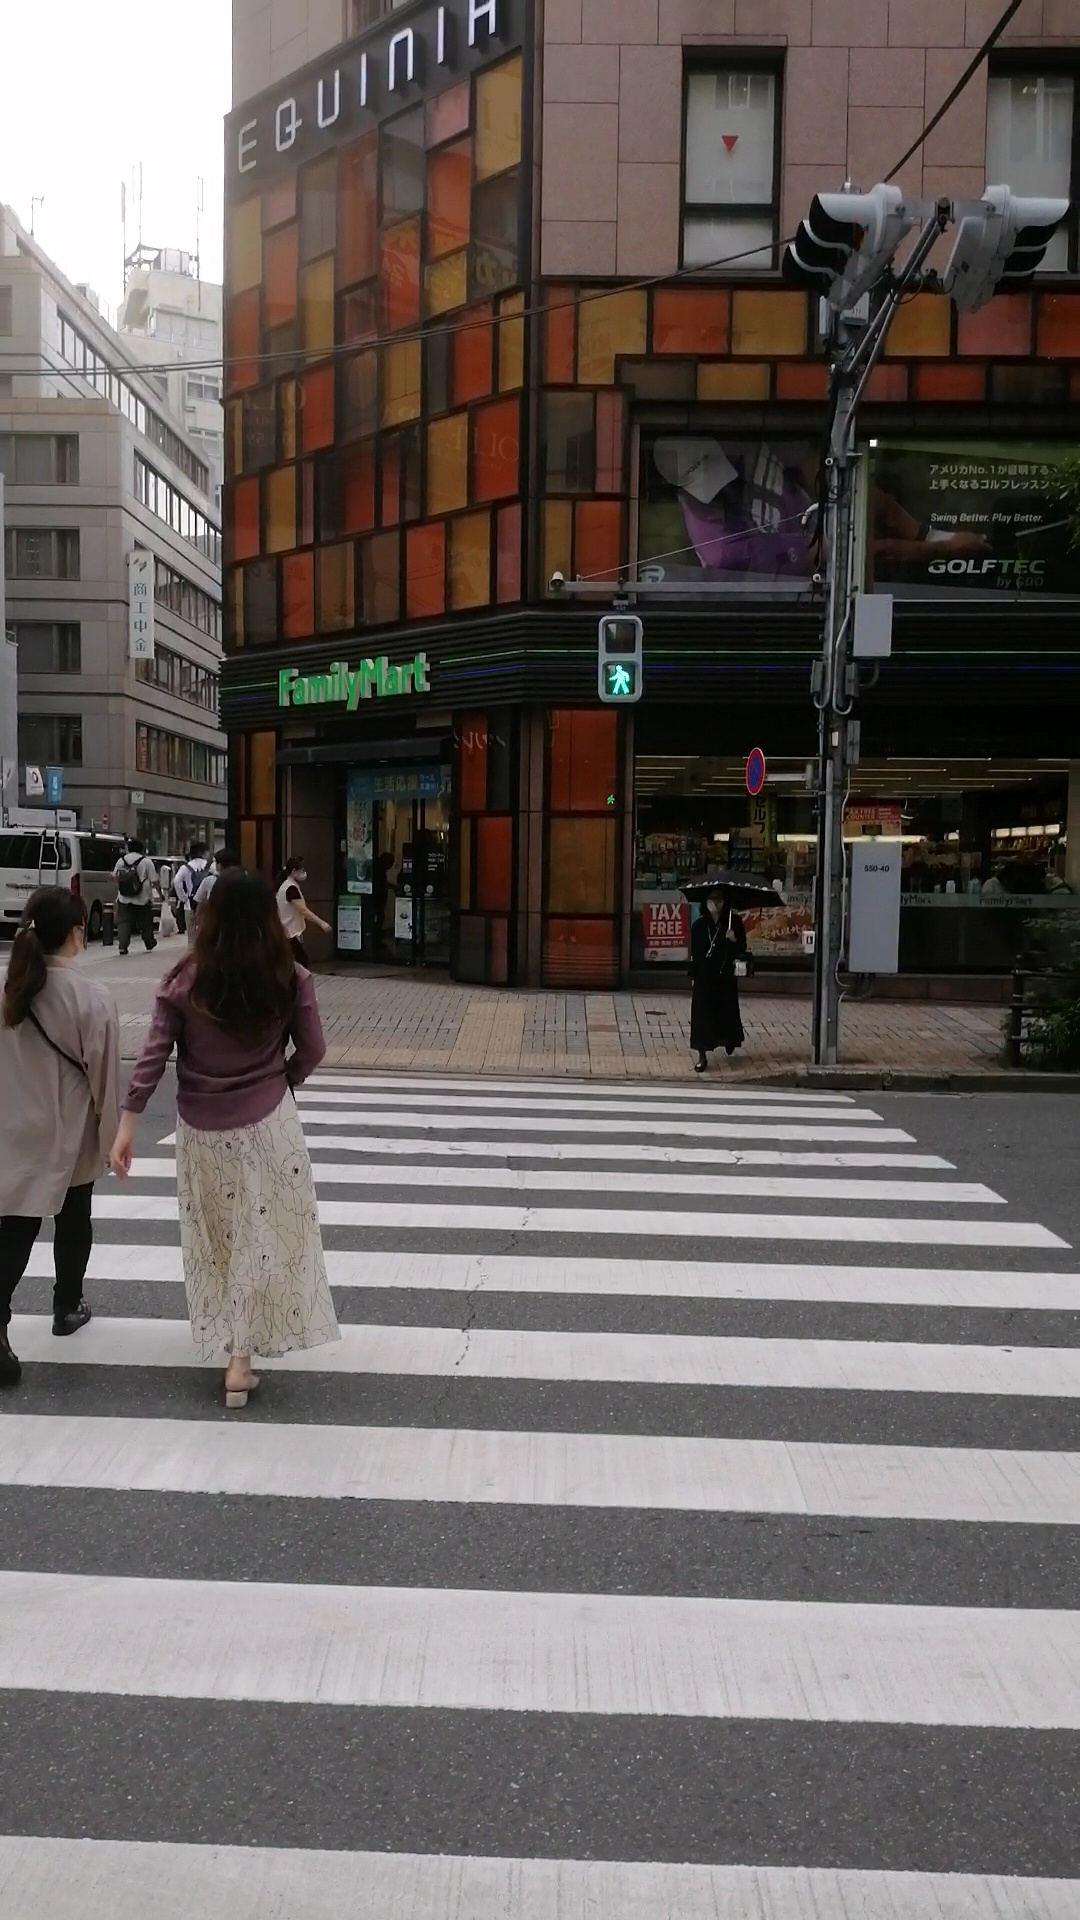green: (597, 616, 646, 703)
